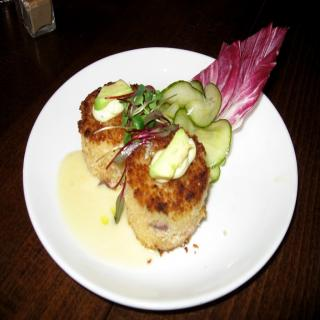Cucumber: (156, 78, 232, 184)
